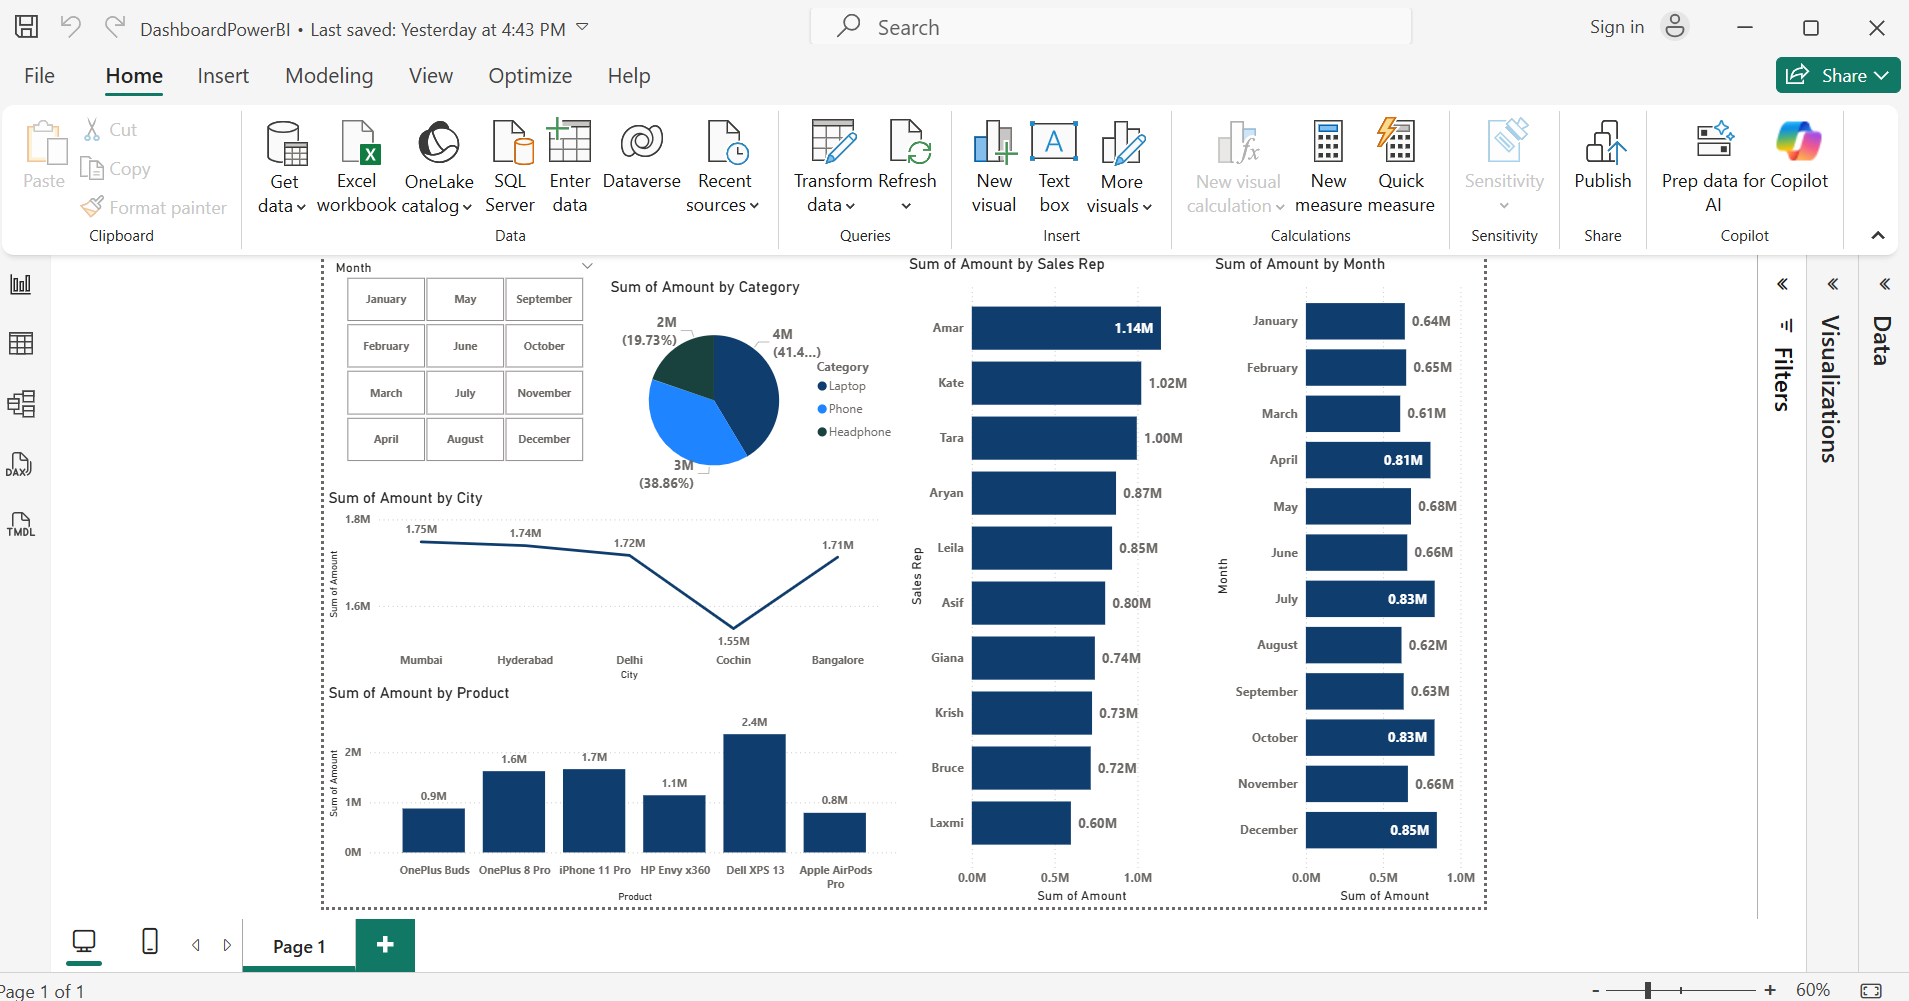

This screenshot's page, from the dashboard's own definition file:
{"tool":"powerbi","page":{"name":"Page 1","canvas":[1280,720],"ordinal":0},"visuals":[{"type":"clusteredBarChart","fields":{"Category":["Source Data.Date.Variation.Date Hierarchy.Month"],"Y":["Sum(Source Data.Amount)"]},"box":[978.9,0,300.5,720],"z":0},{"type":"clusteredBarChart","fields":{"Category":["Source Data.Sales Rep"],"Y":["Sum(Source Data.Amount)"]},"box":[640.6,0,338.3,720],"z":1000},{"type":"clusteredColumnChart","fields":{"Category":["Source Data.Product"],"Y":["Sum(Source Data.Amount)"]},"box":[0,474.3,640.6,245.7],"z":2000},{"type":"lineChart","fields":{"Category":["Source Data.City"],"Y":["Sum(Source Data.Amount)"]},"box":[0,258.9,618,215.4],"z":3000},{"type":"pieChart","fields":{"Category":["Source Data.Category"],"Y":["Sum(Source Data.Amount)"]},"box":[311.8,24.6,328.8,251.3],"z":4000},{"type":"slicer","fields":{"Values":["Source Data.Date.Variation.Date Hierarchy.Month"]},"box":[0,0,309.9,234.3],"z":5000}]}

Visuals, with their boxes on the page's 1280x720 design canvas (x1, y1, x2, y2). These are canvas units, not pixel positions in the 1909x1001 screenshot, which may show the page scaled, cropped or inside an application window:
clusteredBarChart - Source Data.Date.Variation.Date Hierarchy.Month x Sum(Source Data.Amount): 979 0 1279 720
clusteredBarChart - Source Data.Sales Rep x Sum(Source Data.Amount): 641 0 979 720
clusteredColumnChart - Source Data.Product x Sum(Source Data.Amount): 0 474 641 720
lineChart - Source Data.City x Sum(Source Data.Amount): 0 259 618 474
pieChart - Source Data.Category x Sum(Source Data.Amount): 312 25 641 276
slicer - Source Data.Date.Variation.Date Hierarchy.Month: 0 0 310 234
